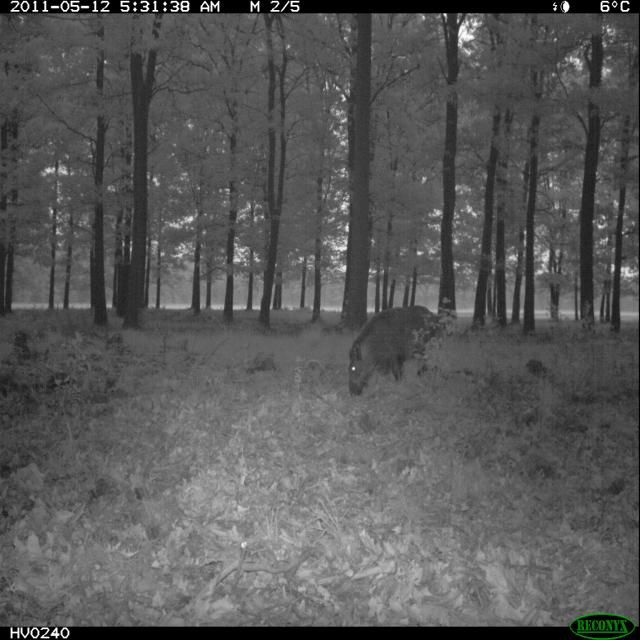boar: (320, 298, 444, 412)
